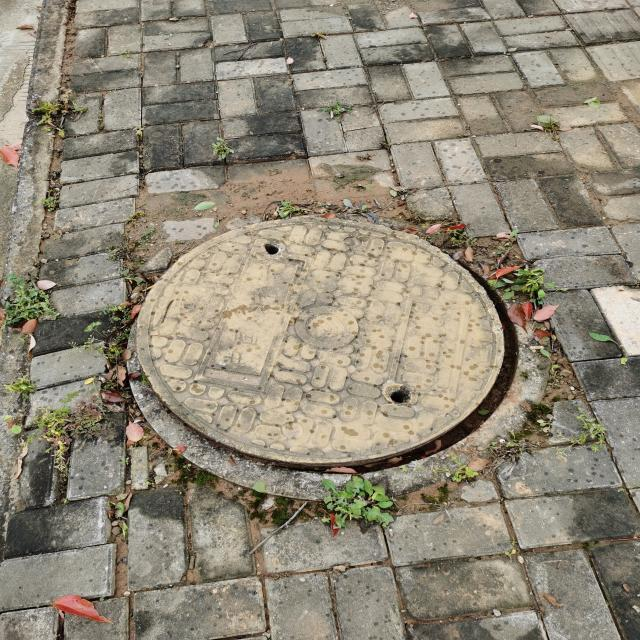Lose: (124, 214, 548, 504)
